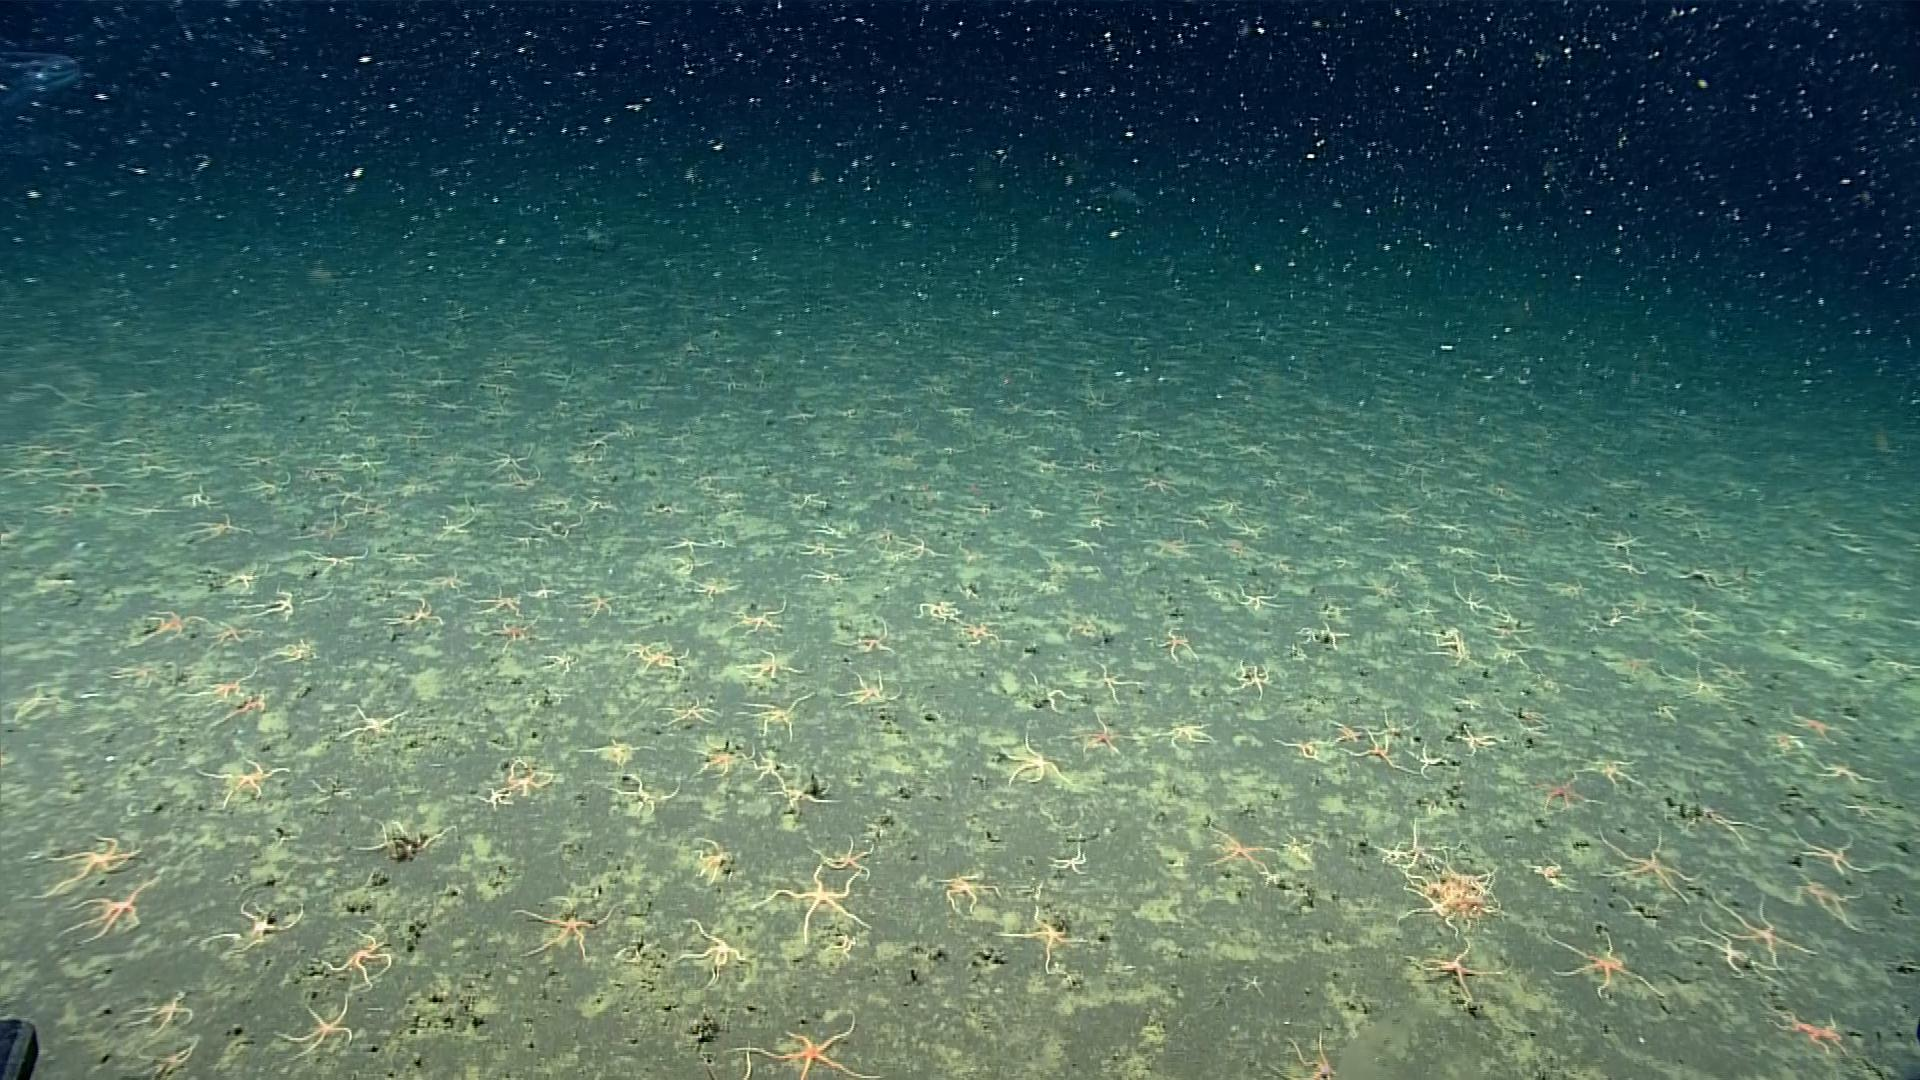brittle_sea_star: (725, 1011, 874, 1072), (736, 849, 864, 919), (53, 866, 165, 944), (30, 823, 142, 897), (1548, 932, 1665, 1001), (1600, 825, 1698, 905), (1716, 895, 1821, 969), (1408, 939, 1513, 1013), (509, 894, 617, 959), (1676, 906, 1764, 978), (992, 902, 1087, 968), (313, 916, 398, 986), (200, 894, 307, 949), (270, 986, 356, 1055), (673, 915, 750, 984), (1791, 870, 1873, 935), (195, 750, 290, 806), (1764, 1002, 1853, 1058), (989, 725, 1068, 783), (352, 814, 459, 856), (1063, 702, 1143, 757), (1676, 800, 1767, 848), (1193, 822, 1270, 870), (121, 601, 207, 645), (794, 816, 868, 866), (1796, 829, 1871, 878), (123, 981, 196, 1030), (733, 683, 810, 729), (1660, 655, 1738, 700), (1075, 653, 1143, 703), (1396, 811, 1460, 865), (1527, 766, 1605, 810), (1338, 727, 1414, 771), (331, 698, 411, 738), (928, 861, 996, 910), (604, 761, 675, 803), (472, 608, 551, 645), (828, 662, 901, 702), (178, 661, 258, 696), (721, 591, 787, 633), (828, 613, 897, 653), (1018, 665, 1073, 713), (1775, 704, 1850, 740), (133, 1026, 203, 1064), (684, 723, 742, 767), (181, 506, 251, 543), (210, 684, 270, 727), (1807, 756, 1883, 789), (737, 641, 804, 678), (1578, 750, 1646, 787), (1524, 847, 1577, 893), (1391, 878, 1448, 920), (297, 541, 372, 572), (286, 502, 348, 541), (762, 764, 828, 799), (691, 835, 737, 885), (1149, 709, 1217, 742), (647, 691, 717, 723), (376, 591, 442, 624), (947, 612, 1013, 645), (500, 754, 556, 793), (236, 583, 298, 617), (463, 579, 525, 613), (1669, 558, 1739, 588), (513, 508, 588, 535), (1146, 620, 1200, 658), (1224, 654, 1273, 696), (203, 613, 262, 647), (1473, 555, 1531, 588), (574, 732, 642, 760), (1449, 575, 1501, 612), (261, 632, 322, 662), (216, 558, 280, 587), (1362, 708, 1424, 737), (737, 733, 781, 774), (1142, 530, 1208, 556), (1234, 576, 1287, 609), (1406, 735, 1449, 774), (1300, 612, 1349, 646), (1452, 717, 1497, 754), (415, 562, 473, 589), (1270, 731, 1328, 758), (782, 533, 853, 555), (1596, 522, 1652, 550), (913, 588, 960, 621), (661, 526, 721, 551), (1043, 835, 1085, 870), (104, 655, 164, 680), (1489, 640, 1538, 670), (632, 641, 686, 667), (566, 588, 618, 615), (683, 571, 738, 596), (1834, 790, 1890, 815), (1481, 618, 1536, 644), (434, 505, 477, 537), (895, 527, 939, 559), (1054, 608, 1097, 638), (1427, 637, 1478, 662), (477, 444, 531, 468), (1200, 488, 1254, 512), (1324, 713, 1367, 742), (1222, 512, 1273, 537), (1356, 575, 1406, 600), (796, 558, 852, 580), (1374, 497, 1419, 525), (344, 493, 392, 517), (1514, 703, 1556, 729), (1168, 505, 1215, 529), (572, 488, 617, 512), (1427, 512, 1472, 535), (1131, 469, 1182, 491), (1312, 591, 1352, 616), (472, 781, 513, 804), (1436, 538, 1485, 558), (1423, 618, 1465, 641), (1553, 574, 1593, 597), (1060, 530, 1104, 551), (1232, 969, 1267, 994), (1370, 836, 1406, 861), (1675, 595, 1710, 620), (1676, 620, 1718, 641), (320, 479, 365, 498), (1604, 554, 1644, 575), (1598, 603, 1639, 624), (1382, 549, 1416, 572), (1406, 593, 1441, 616), (1642, 696, 1679, 717), (1017, 497, 1055, 516), (1076, 510, 1112, 529), (1650, 595, 1675, 617), (1491, 605, 1526, 621), (1328, 549, 1350, 566)
